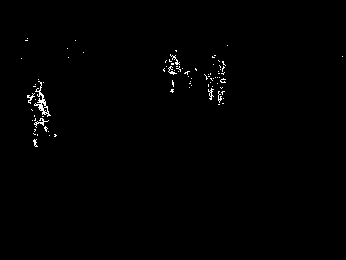person: (25, 80, 60, 146), (160, 48, 182, 91)
